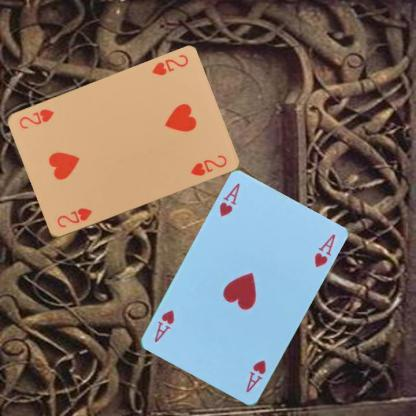2h: (149, 52, 190, 77), (54, 205, 93, 229)
Ah: (217, 180, 242, 218), (243, 358, 268, 394)
